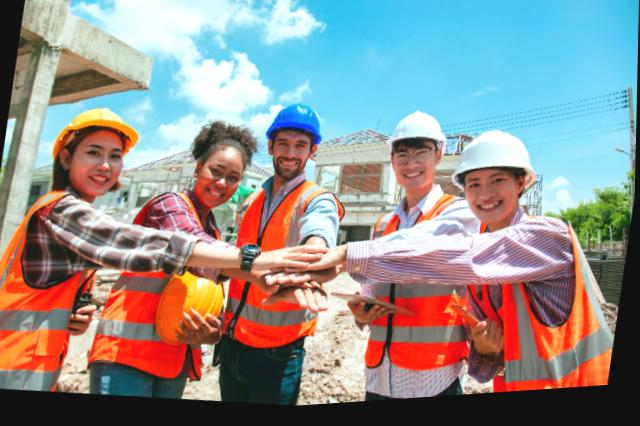helmet: (151, 264, 239, 351), (448, 126, 541, 195), (53, 107, 141, 162), (382, 104, 461, 164), (265, 107, 323, 149)
vest: (460, 215, 632, 402), (354, 184, 491, 388), (209, 175, 351, 364), (88, 198, 231, 384), (0, 186, 114, 382)
